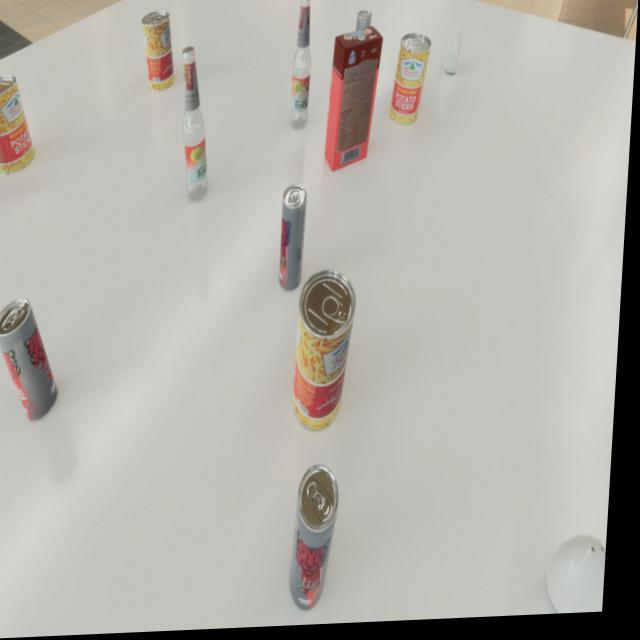Bottle: (176, 47, 217, 205), (290, 0, 316, 133)
HelloPanda: (326, 30, 384, 175)
Potato_sticks: (295, 271, 362, 436), (0, 73, 41, 175), (390, 36, 433, 130), (139, 11, 179, 94)
Rita_zero_sugar: (0, 297, 67, 424), (295, 467, 347, 614), (281, 187, 311, 295), (352, 13, 373, 85)
Salt: (552, 538, 614, 619), (445, 37, 464, 78)
